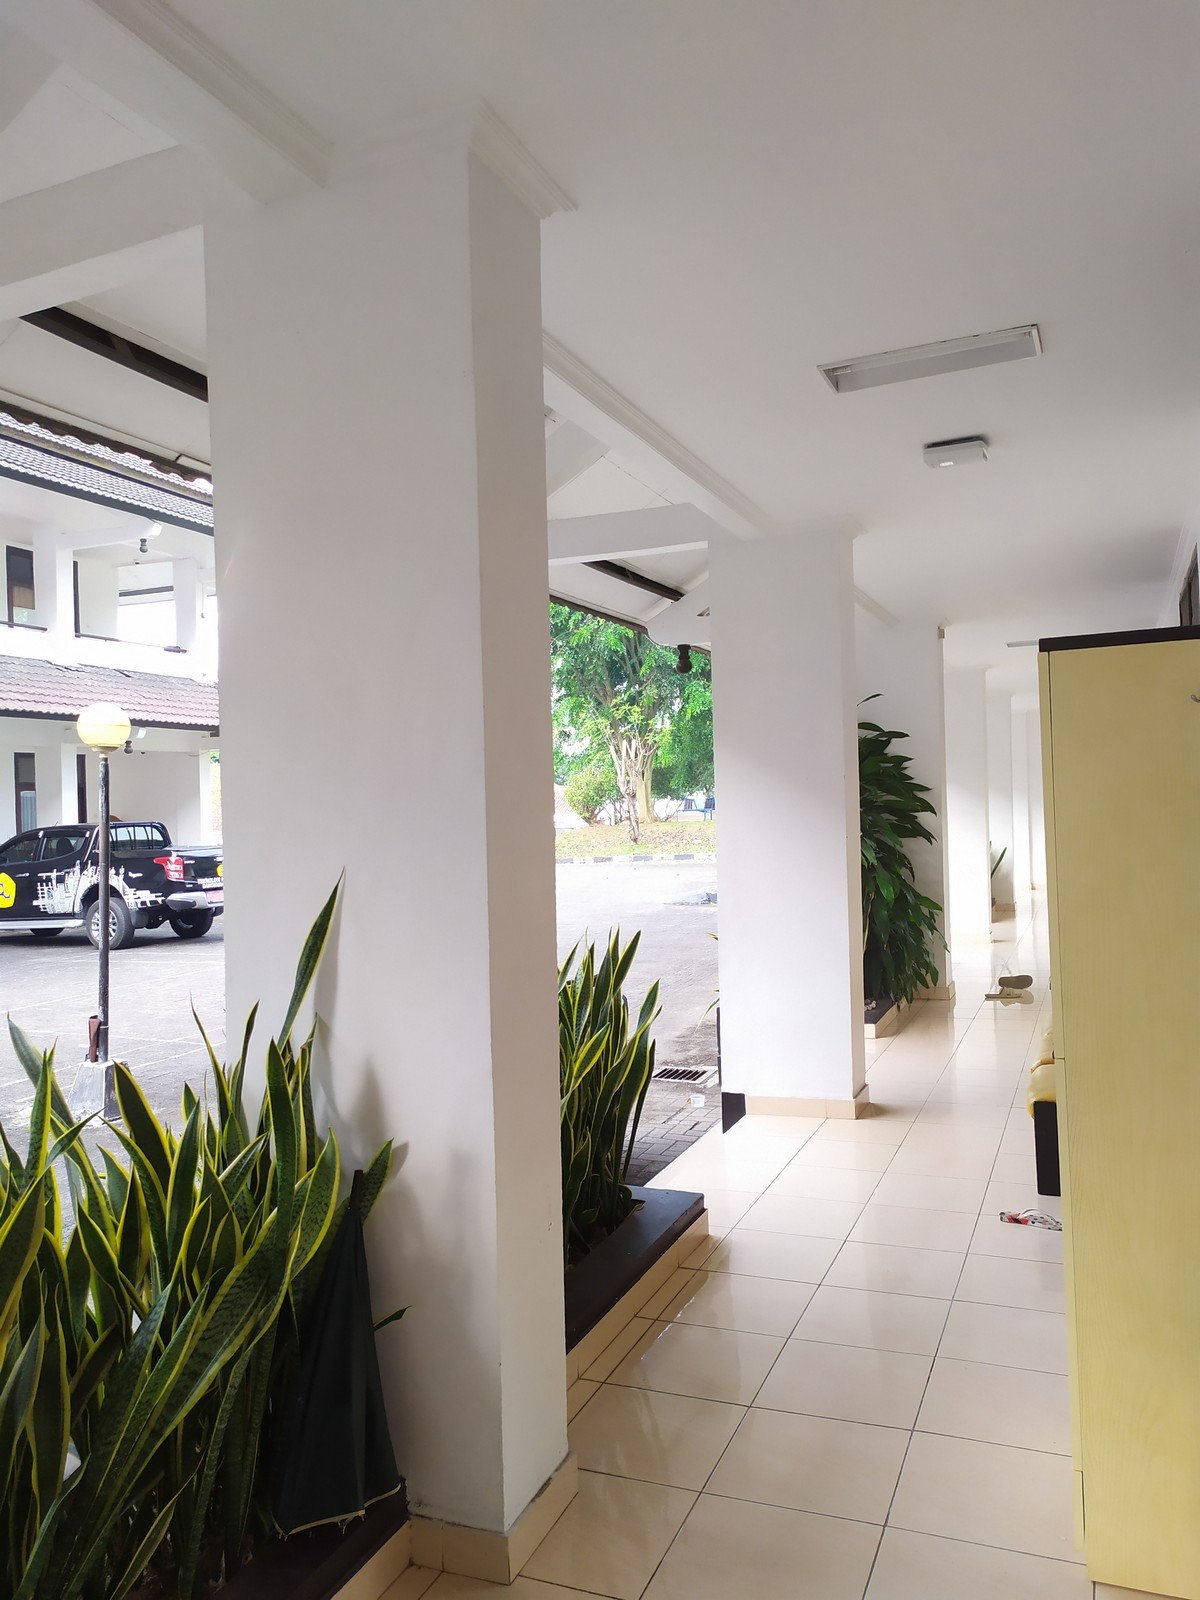concrete beam: (15, 147, 208, 323), (534, 498, 710, 572)
concrete column: (194, 139, 592, 1586), (700, 520, 877, 1128)
